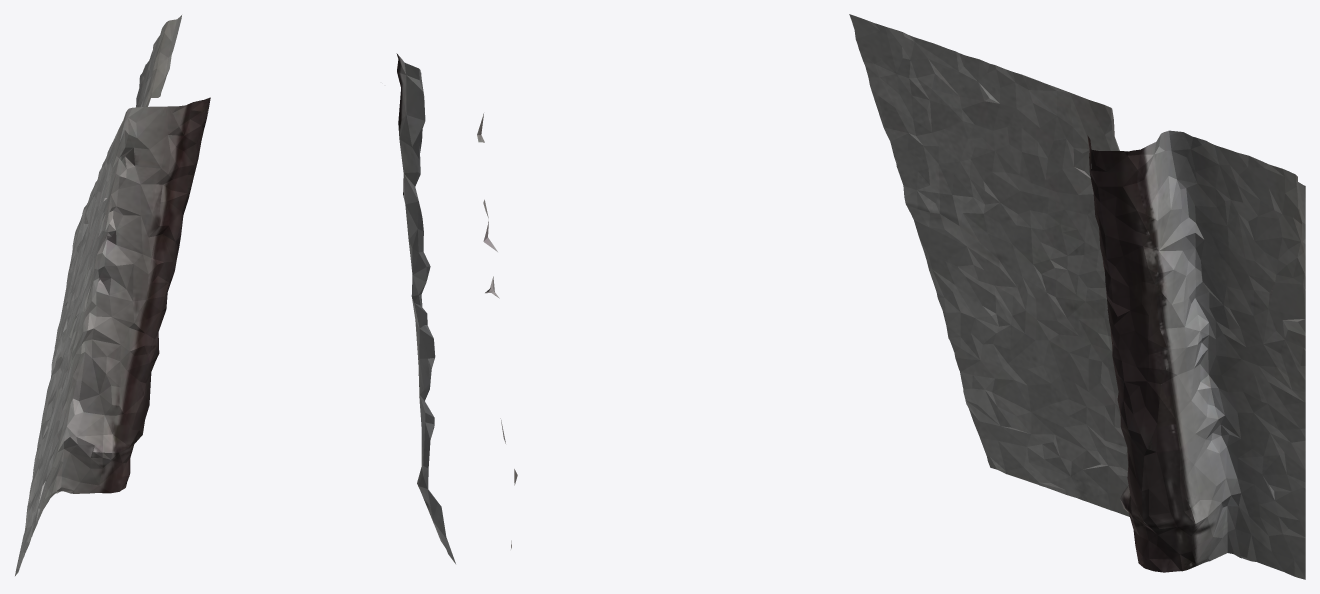
3 renders of one model, left to right at view 1: azimuth 30°, elevation 25°; view 2: azimuth 150°, elevation 25°; view 3: azimuth 270°, elevation 25°, orthographic. The views are drawn at different scales.
Bounding box in the file's own units: 0.6804 × 0.8374 × 0.7637.
Materials: 3 (3 with a texture image).
